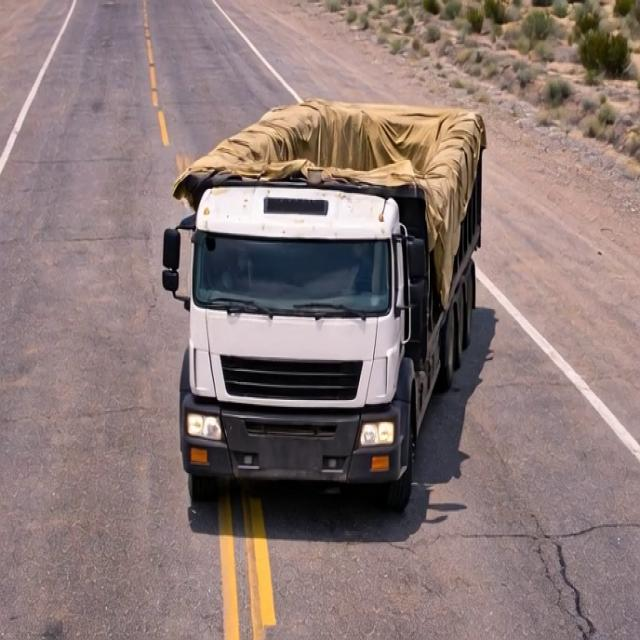Box: (177, 97, 518, 190)
Truck: (145, 72, 540, 512)
